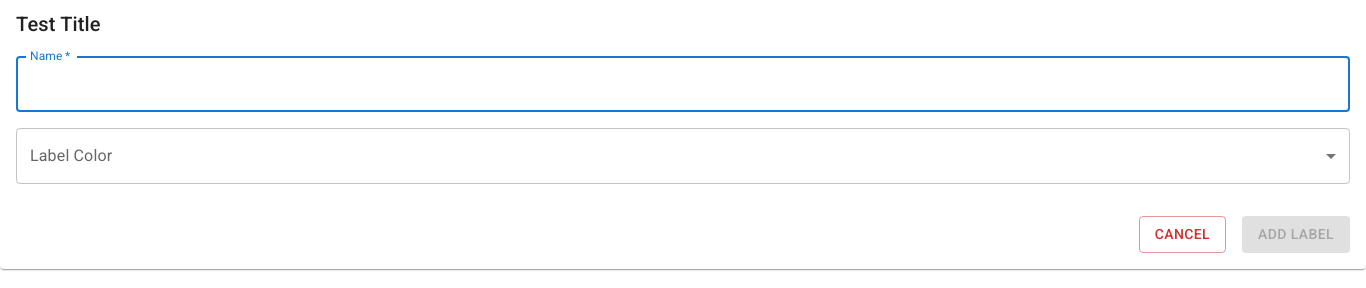
LabelForm › only disables the submit button when the name input is empty
Expected: the button "Add Label" is disabled, [1242,216,1350,252]
button should not be disabled when name input has a value
In the field labelled "Name *": (683, 84) [16,56,1350,112], type "Test Label"
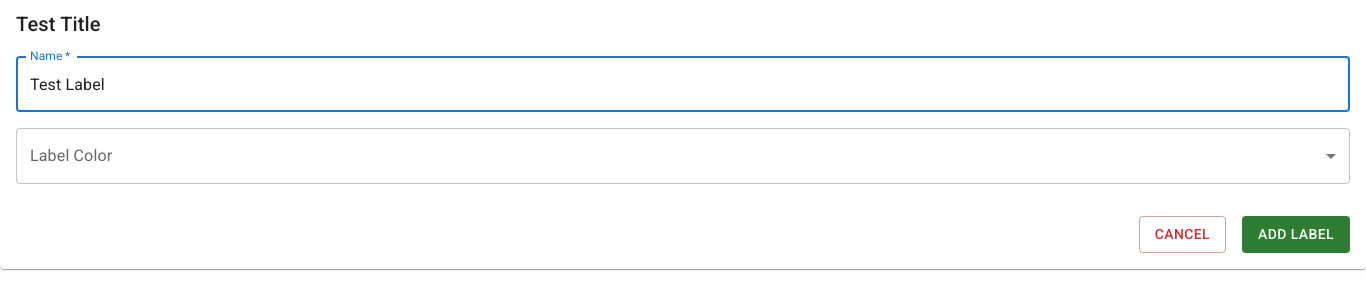
Expected: the button "Add Label" is enabled, [1242,216,1350,252]
